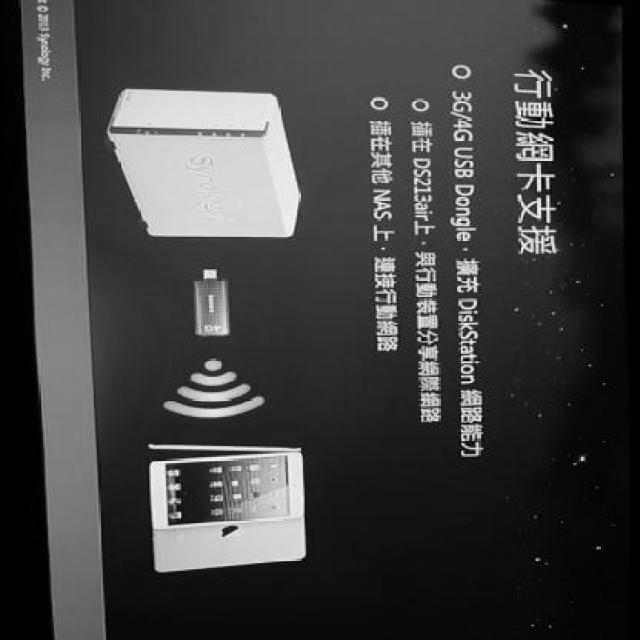fake: (148, 451, 306, 531), (152, 514, 306, 574)
